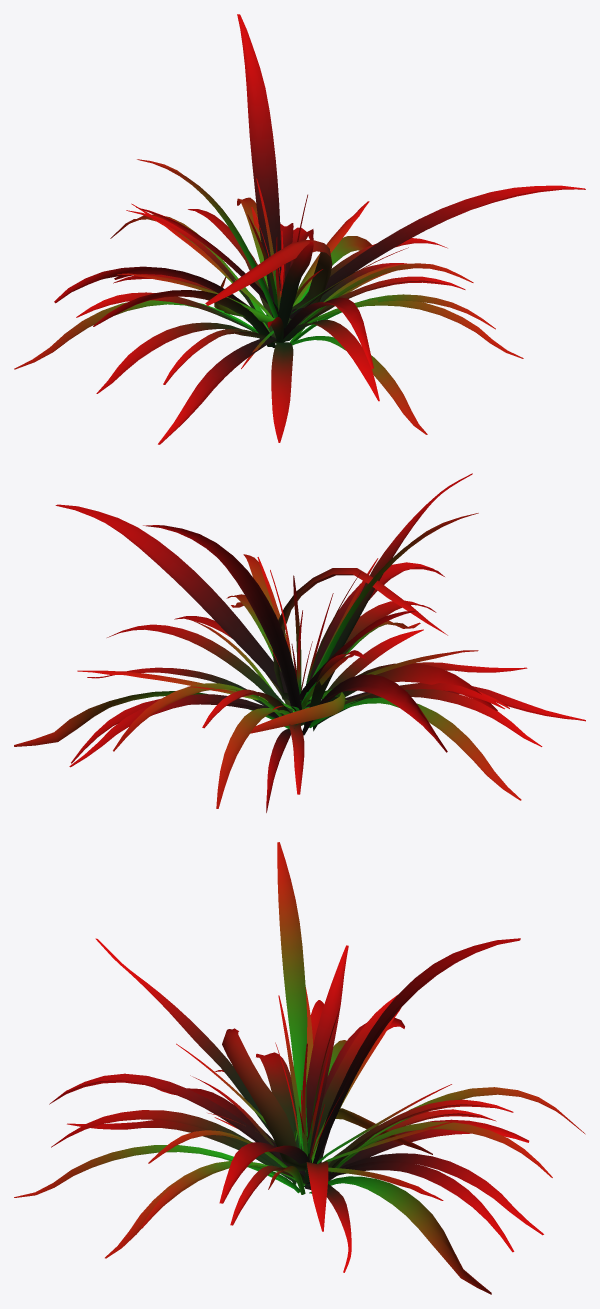
Rendered from PlantSucculent03.fbx.
The picture shows the model from 3 angles, top to bottom: view 1: azimuth 30°, elevation 25°; view 2: azimuth 150°, elevation 25°; view 3: azimuth 270°, elevation 25°; orthographic projection. The views are drawn at different scales.
Parts seen in each view (by area): view 1: _f736_Var3_LOD0; view 2: _f736_Var3_LOD0; view 3: _f736_Var3_LOD0.
Part boxes in pixels (x1,y1,x2,y2): _f736_Var3_LOD0: [14, 14, 585, 444]; _f736_Var3_LOD0: [14, 473, 585, 812]; _f736_Var3_LOD0: [14, 842, 585, 1294].
Bounding box in the file's own units: 60.05 × 28.58 × 52.3.
